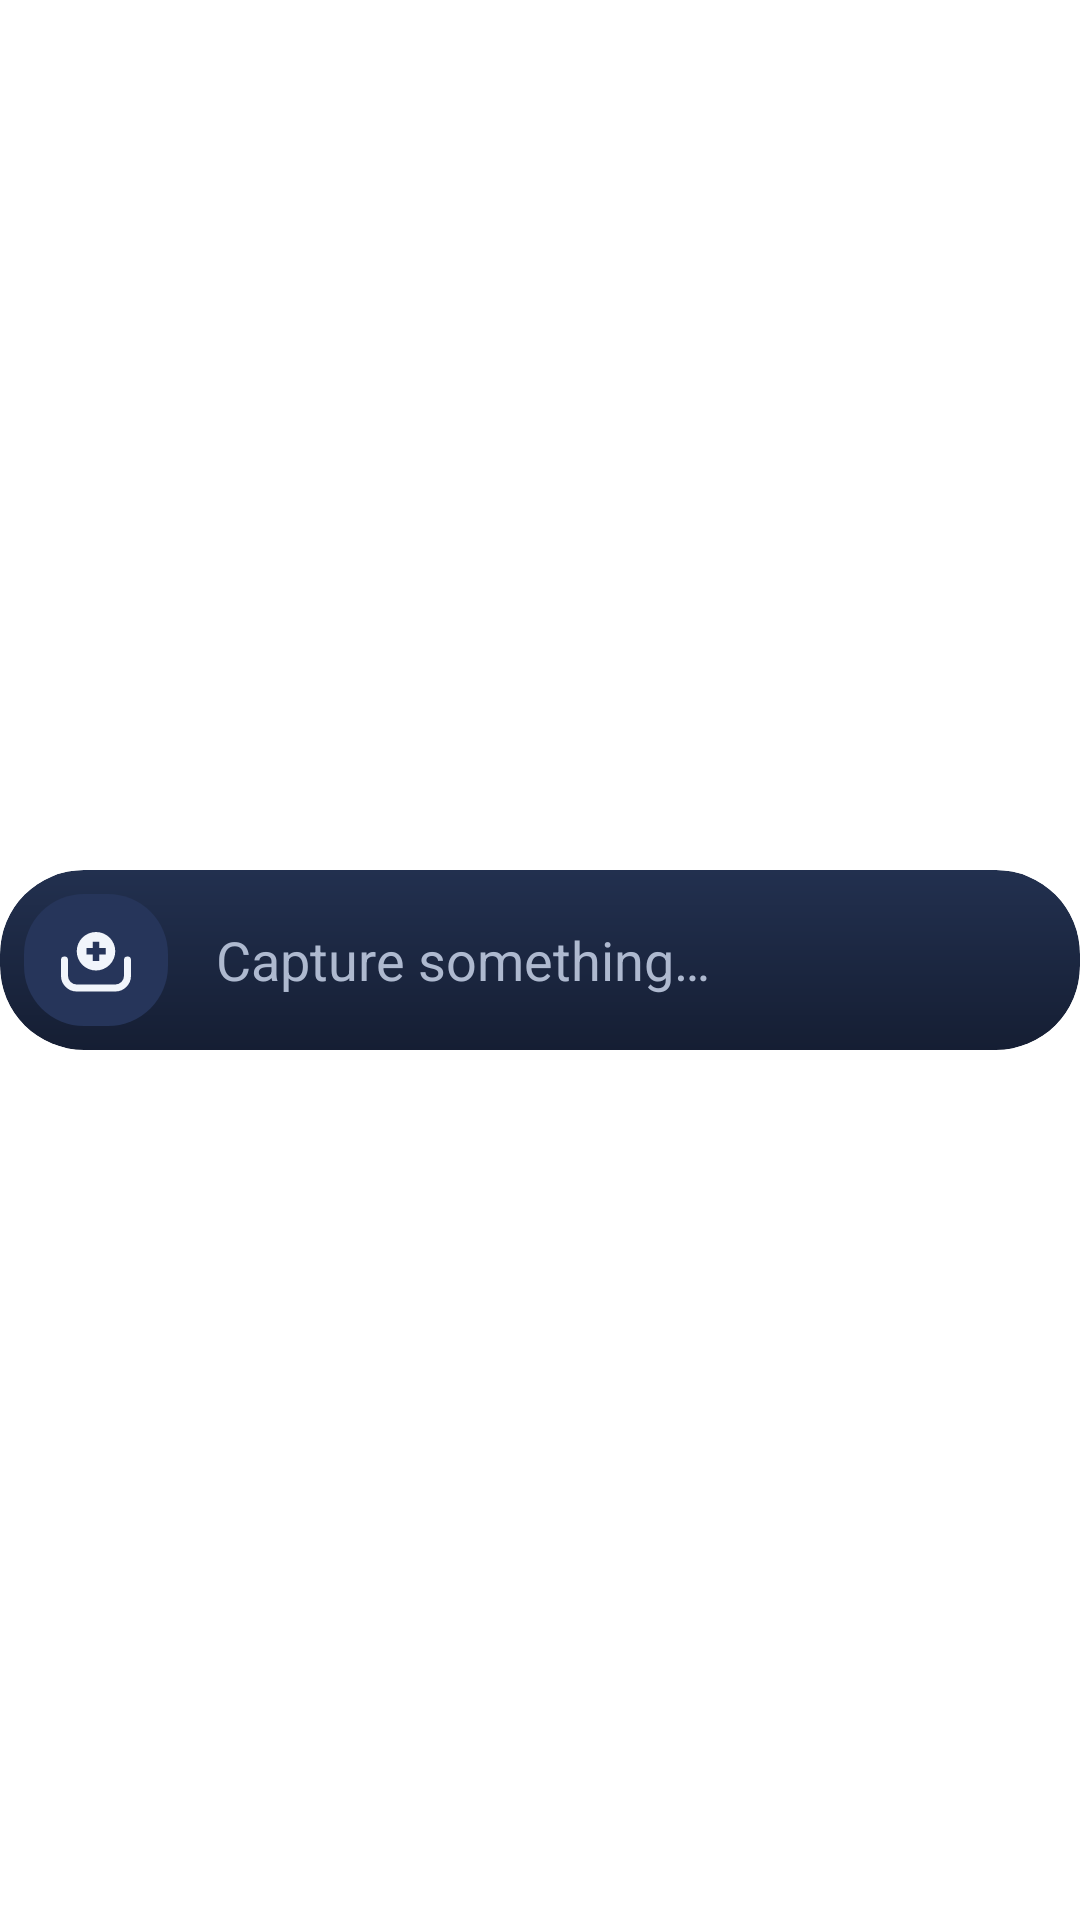

Icon bounding boxes for this 1080×1920 phone screenshot, format (x1, y1, x2, y2):
widget capture: (61, 932, 131, 992)
